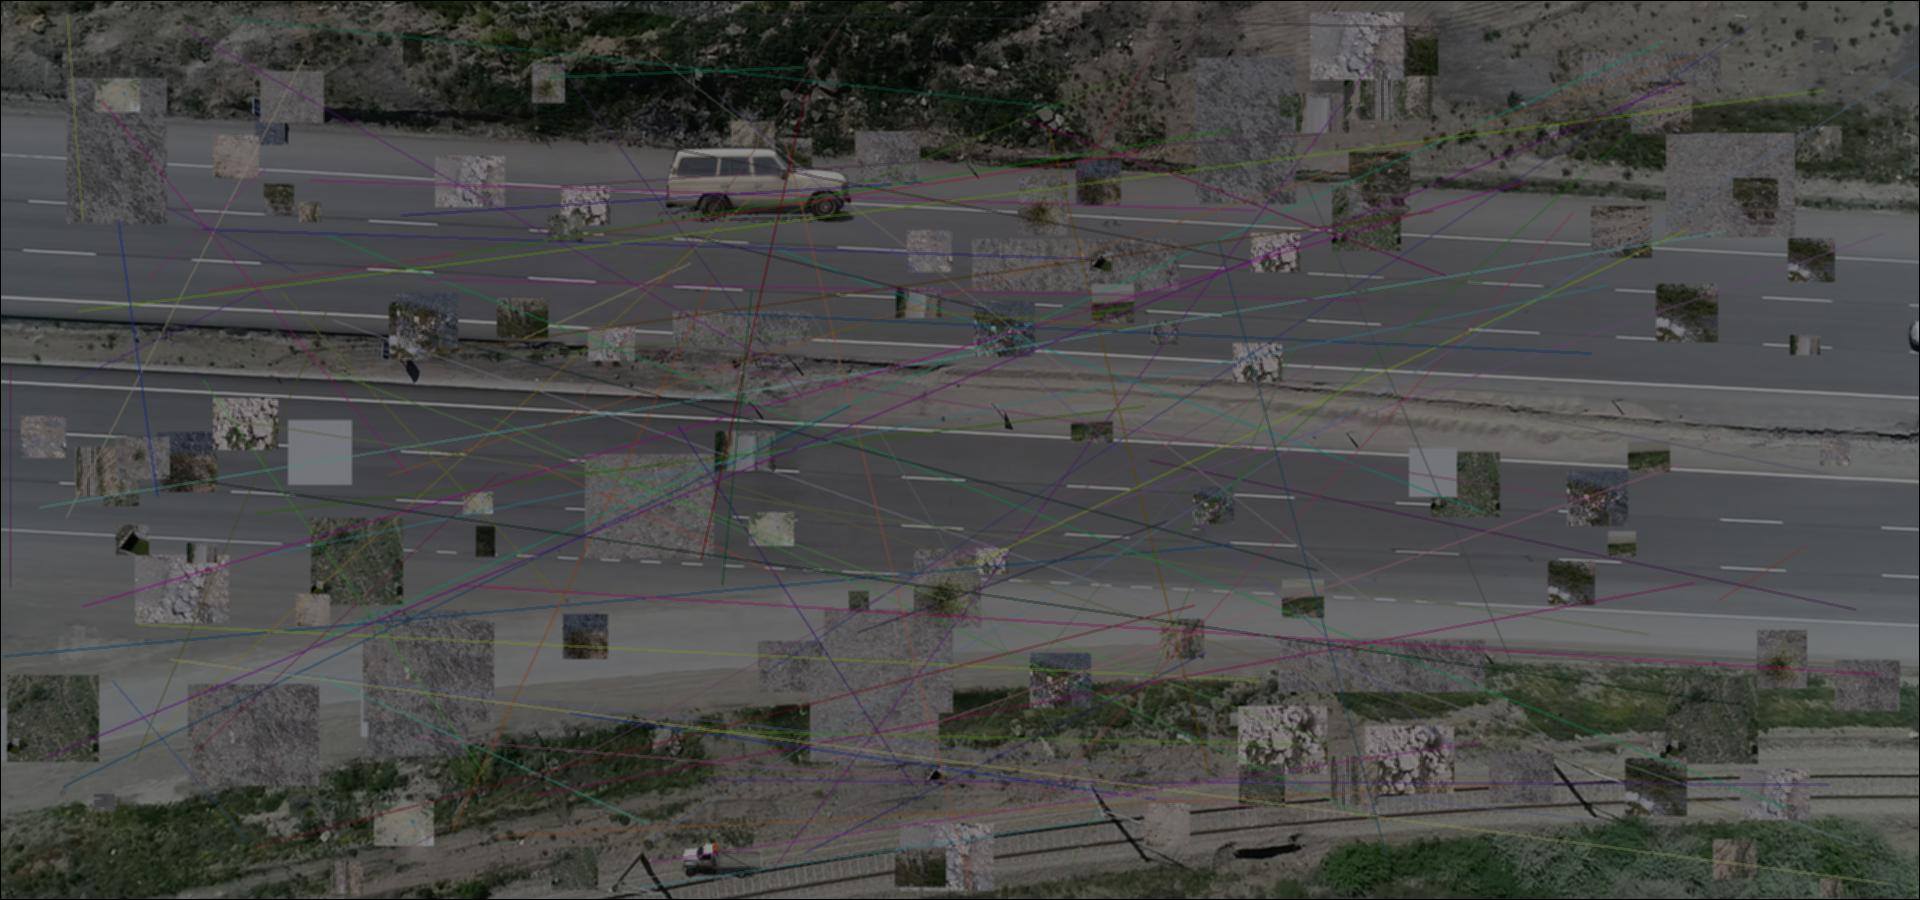arac: (659, 144, 853, 222), (683, 842, 765, 880)
